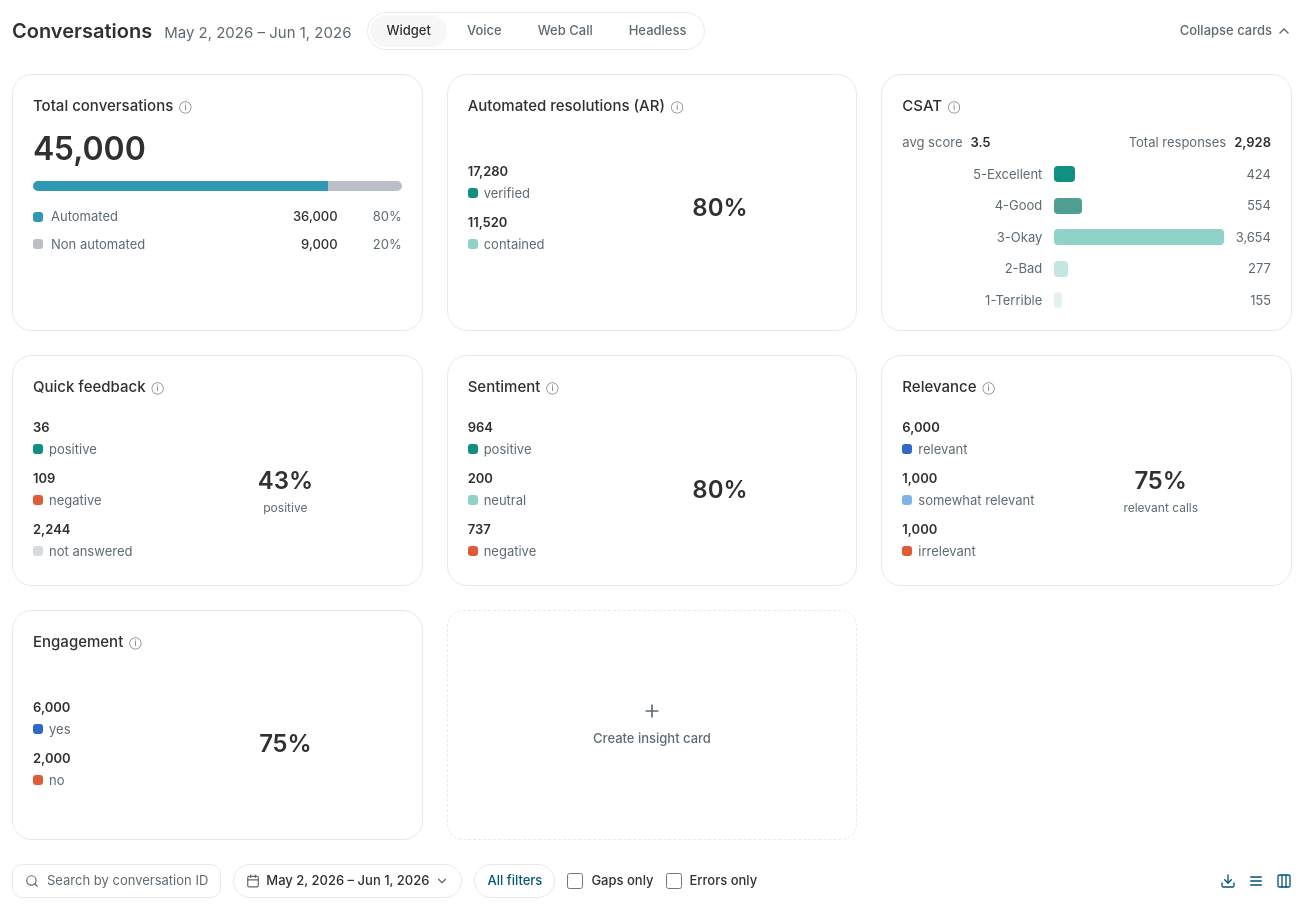
Test: ConversationsView › hides the card grid when Collapse cards is toggled
Check: the heading "Automated resolutions (AR) ⓘ" is shown, box [468,96,683,114]
Click the button "Collapse cards". click: {"x": 1236, "y": 31}
box: [1180,21,1292,40]
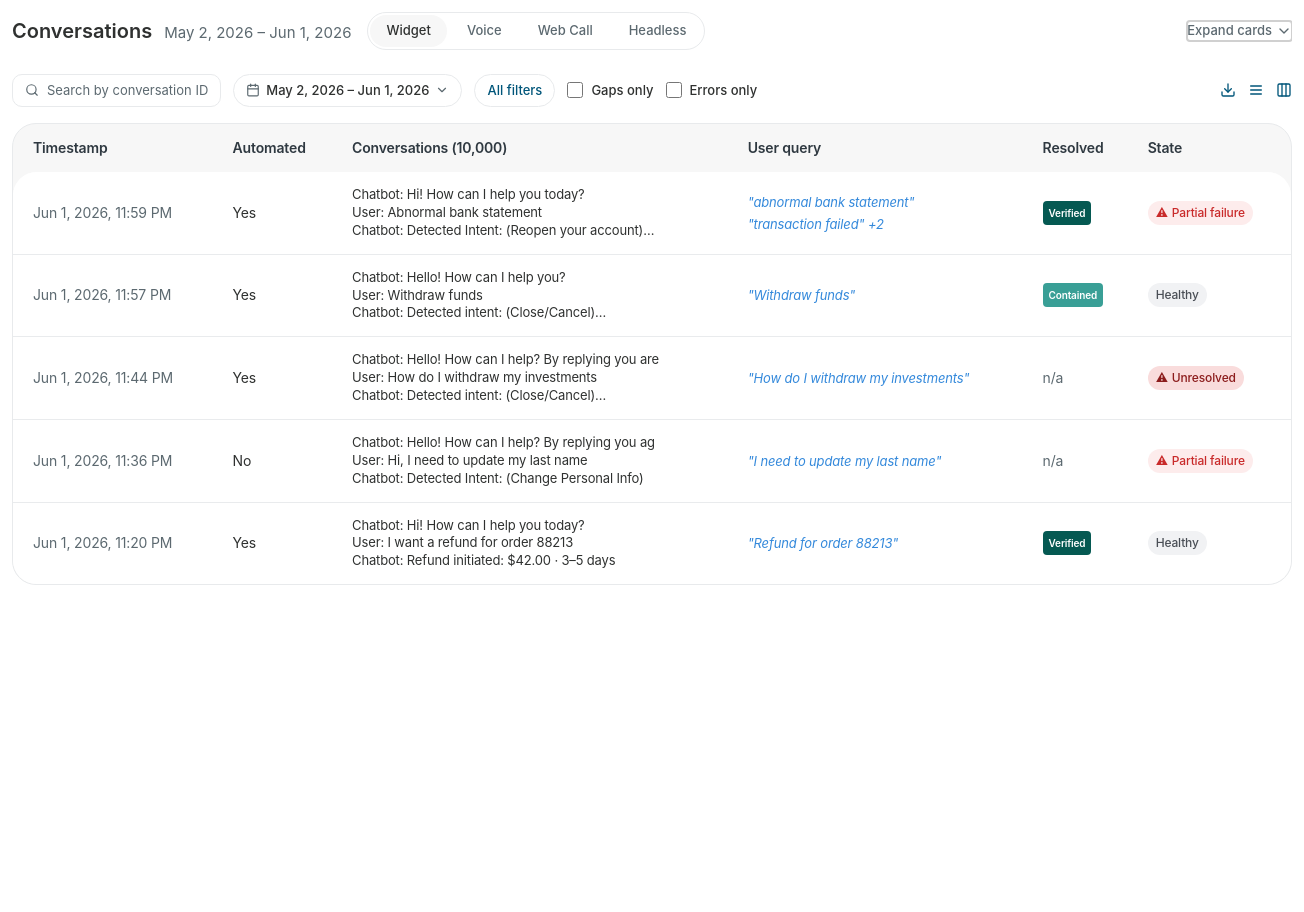
Check: the heading "Automated resolutions (AR)" is gone
